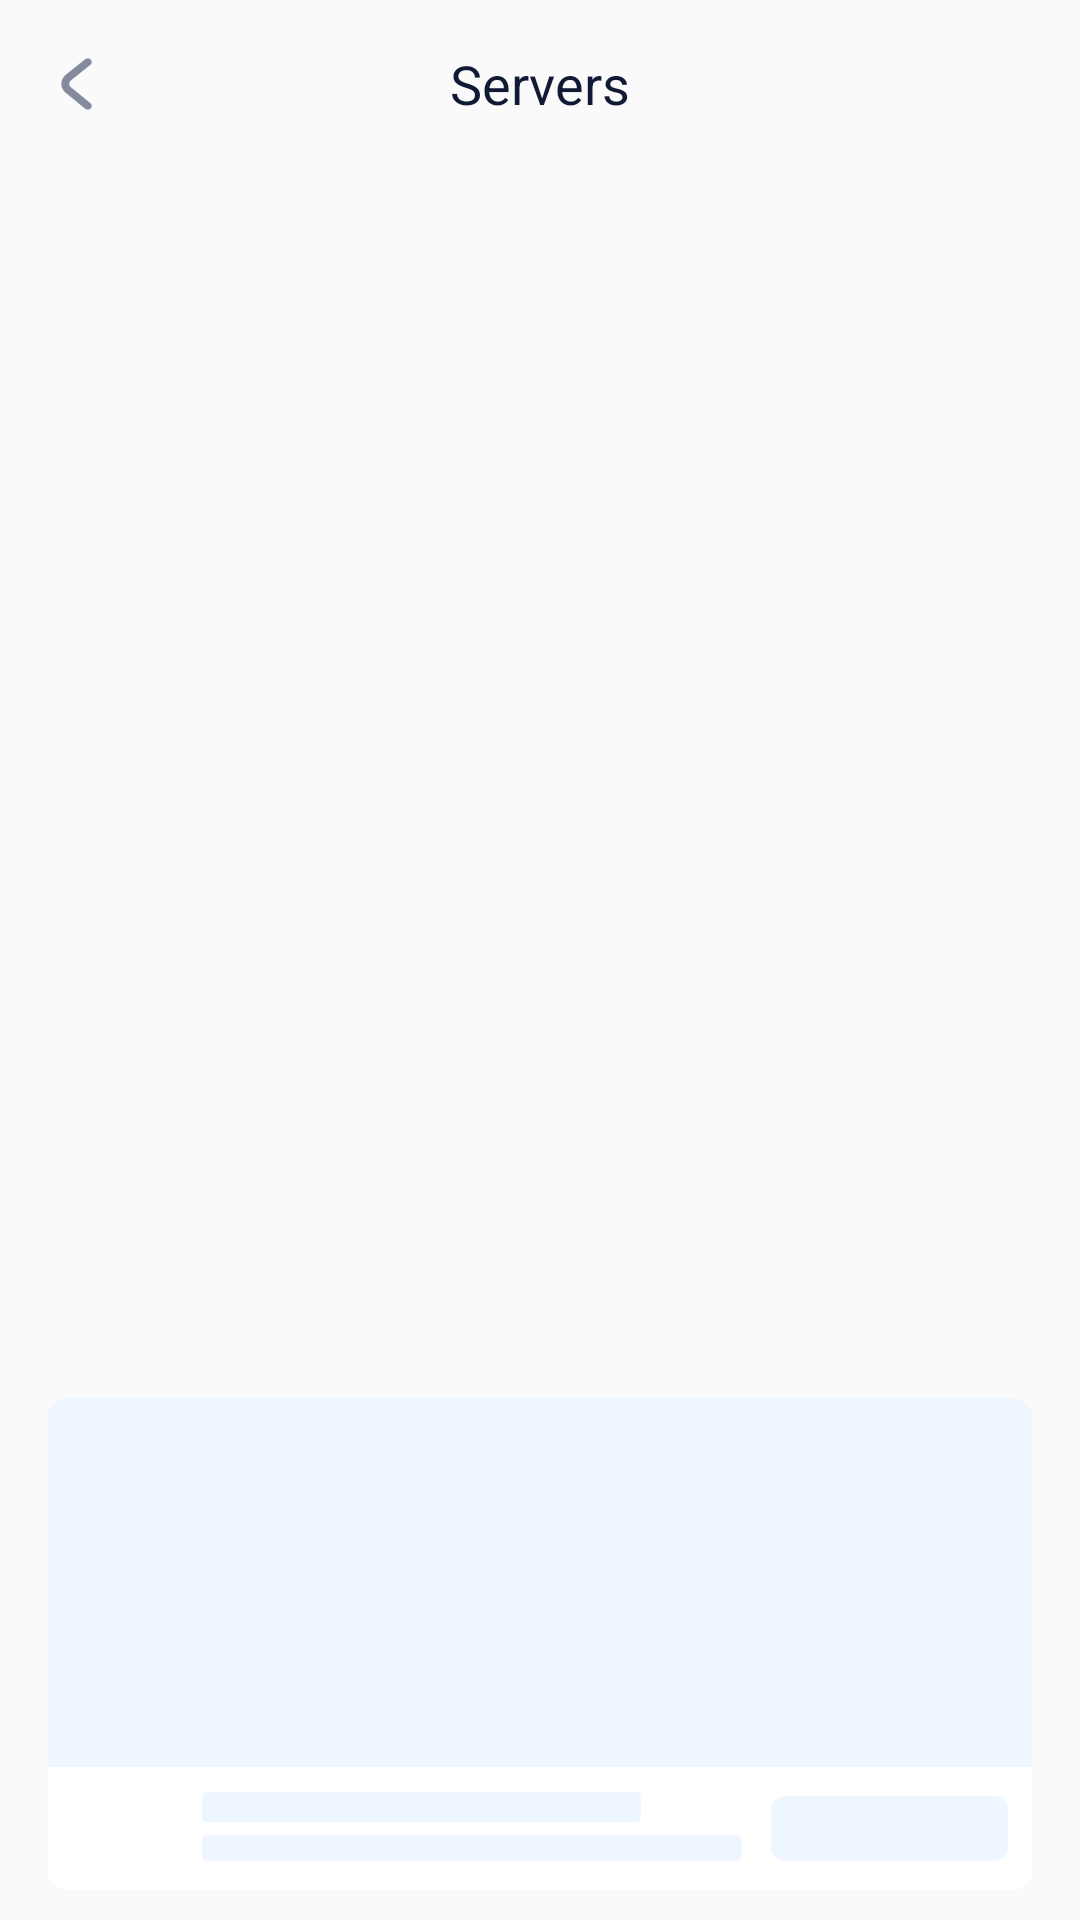

Screen size 1080px x 1920px. Icon name, then its box in pixels as detection(x1, y1, x2, y2):
arrow back: detection(61, 58, 92, 110)
